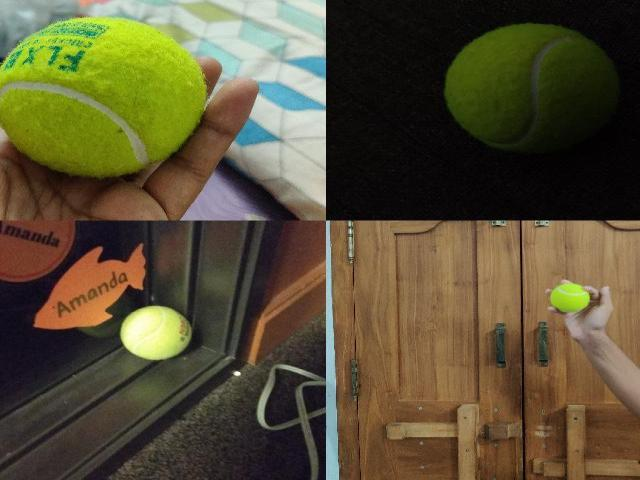tennis-ball: (0, 17, 206, 179), (444, 24, 620, 154), (119, 305, 193, 361), (550, 283, 590, 313)
